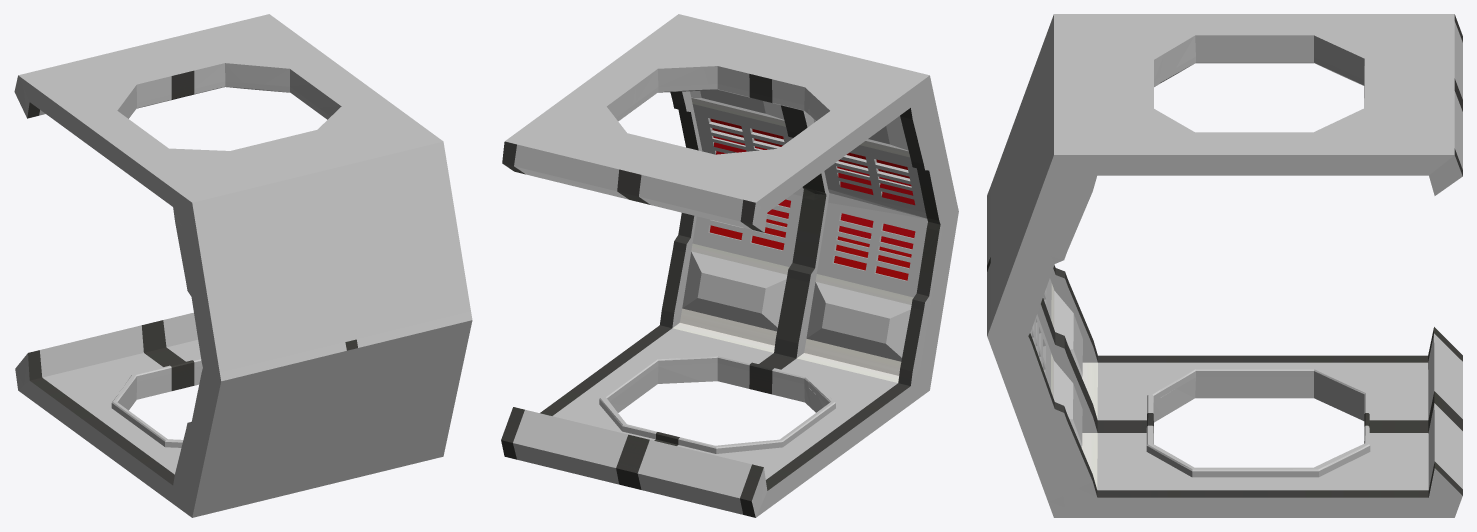
Rendered from BothHallwayHoles.fbx.
3 renders of one model, left to right at view 1: azimuth 30°, elevation 25°; view 2: azimuth 150°, elevation 25°; view 3: azimuth 270°, elevation 25°, orthographic. The views are drawn at different scales.
Parts seen in each view (by area): view 1: Hallway_Both_Holes; view 2: Hallway_Both_Holes; view 3: Hallway_Both_Holes.
Boxes of the visible parts, x1,y1,x2,y2 form: Hallway_Both_Holes: [14, 14, 472, 517]; Hallway_Both_Holes: [501, 14, 958, 517]; Hallway_Both_Holes: [987, 14, 1462, 517].
Size of the model in its own units: 4.38 by 5.24 by 6.23.
